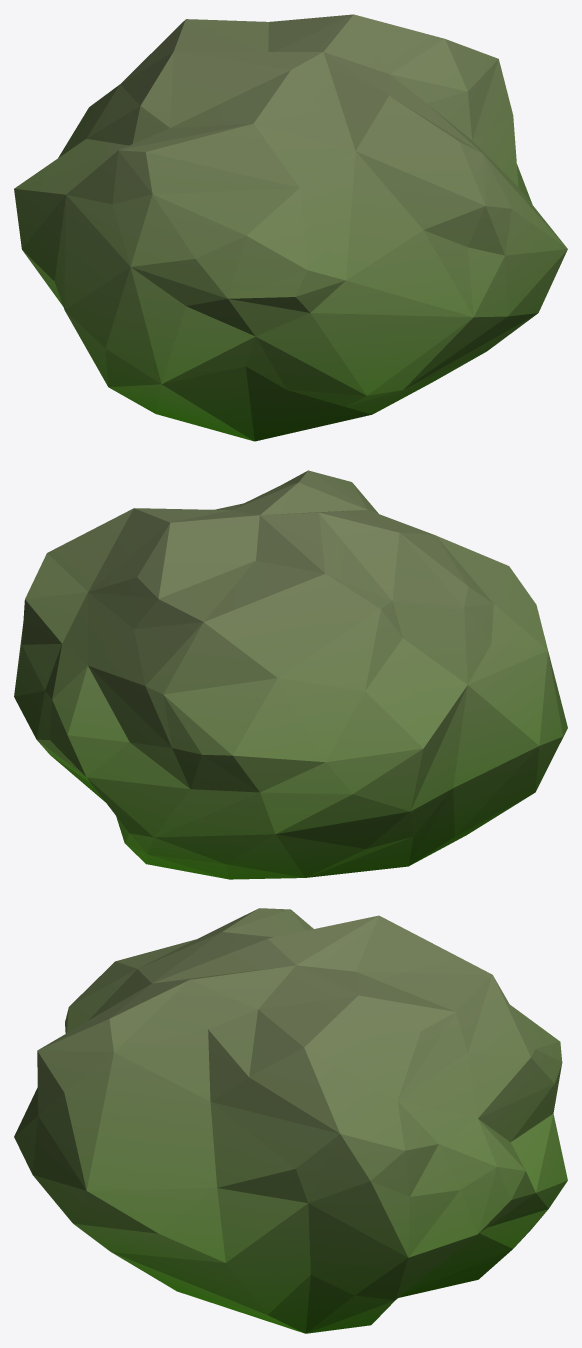
The model's file is synty-plant-hedge-bush-01.gltf.
3 views of the same model, one above another, from view 1: azimuth 30°, elevation 25°; view 2: azimuth 150°, elevation 25°; view 3: azimuth 270°, elevation 25° (orthographic). The views are drawn at different scales.
Parts seen in each view (by area): view 1: SM_Plant_Hedge_Bush_01; view 2: SM_Plant_Hedge_Bush_01; view 3: SM_Plant_Hedge_Bush_01.
Part boxes in pixels (x1,y1,x2,y2): SM_Plant_Hedge_Bush_01: [14, 14, 567, 441]; SM_Plant_Hedge_Bush_01: [14, 470, 567, 879]; SM_Plant_Hedge_Bush_01: [14, 908, 567, 1333].
Size of the model in its own units: 3.41 by 2.07 by 3.41.
Materials: 1 (1 with a texture image).
